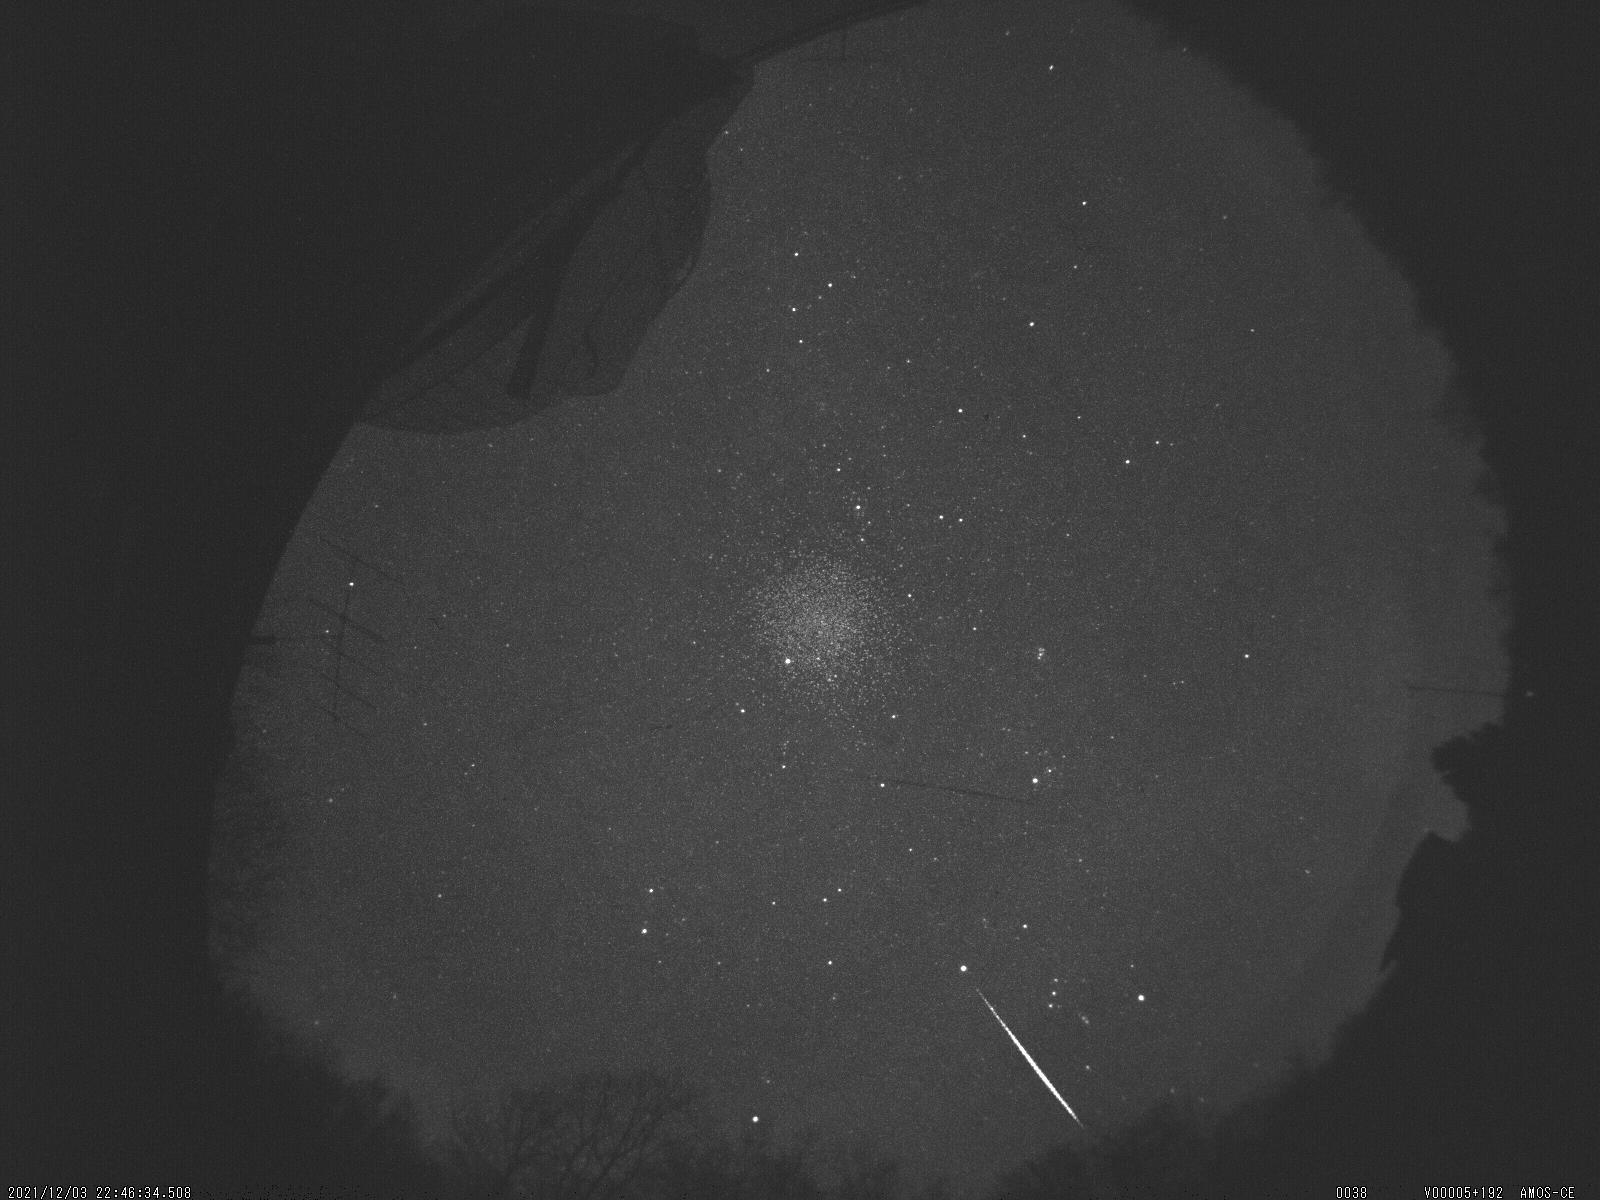Meteor: (974, 983, 1096, 1136)
